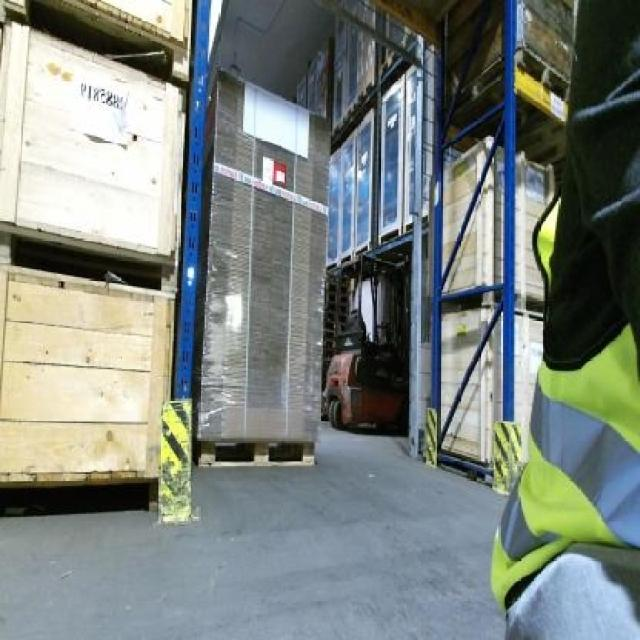pallets: (195, 69, 326, 463), (0, 22, 180, 252), (0, 263, 171, 482), (438, 146, 502, 425), (514, 151, 549, 434), (440, 315, 498, 474), (442, 135, 489, 263)
